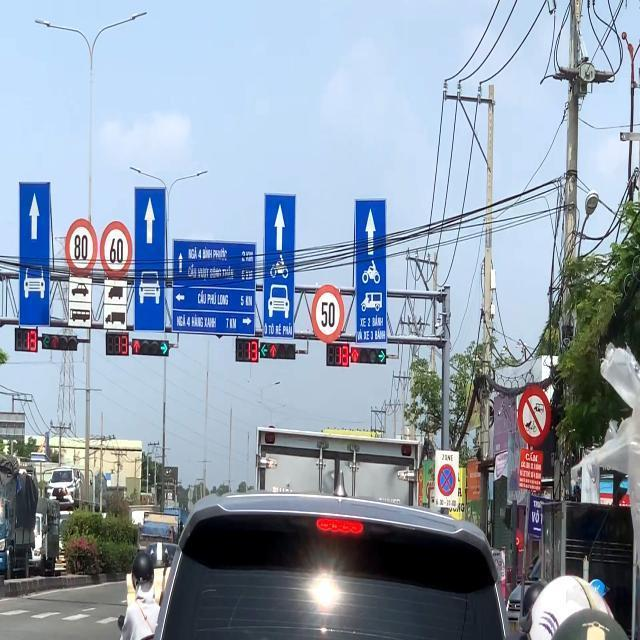127-toc-do-toi-da-50: (312, 286, 347, 342)
127-toc-do-toi-da-60: (99, 218, 134, 277)
127-toc-do-toi-da-80: (66, 218, 97, 274)
130-cam-dung-va-do-xe: (437, 465, 458, 493)
